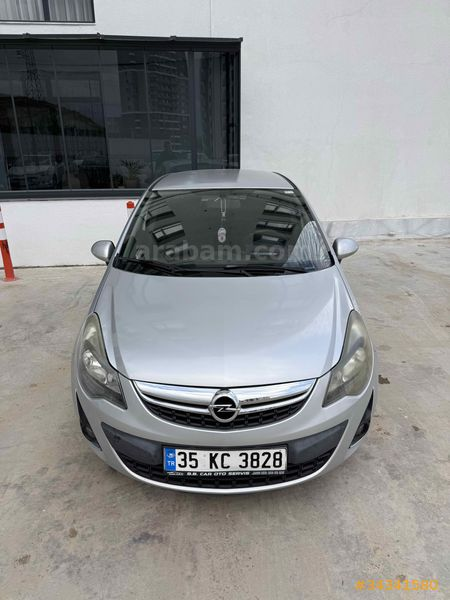plate: (164, 445, 291, 480)
